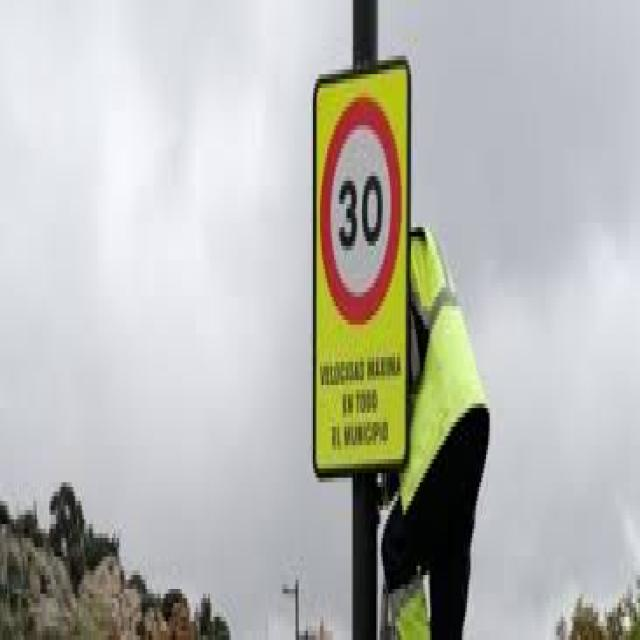Speed limit 30: (318, 85, 403, 326)
